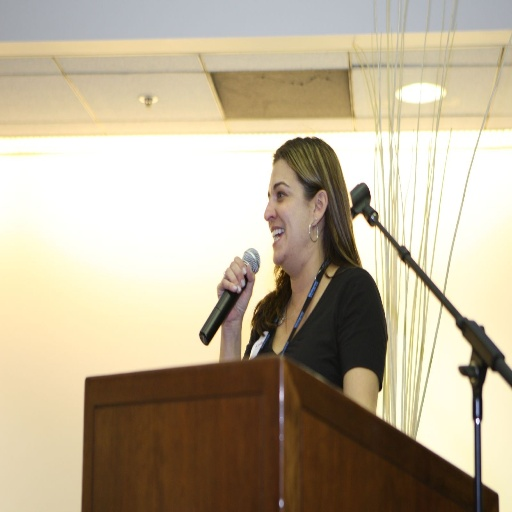hand: (211, 262, 257, 317)
